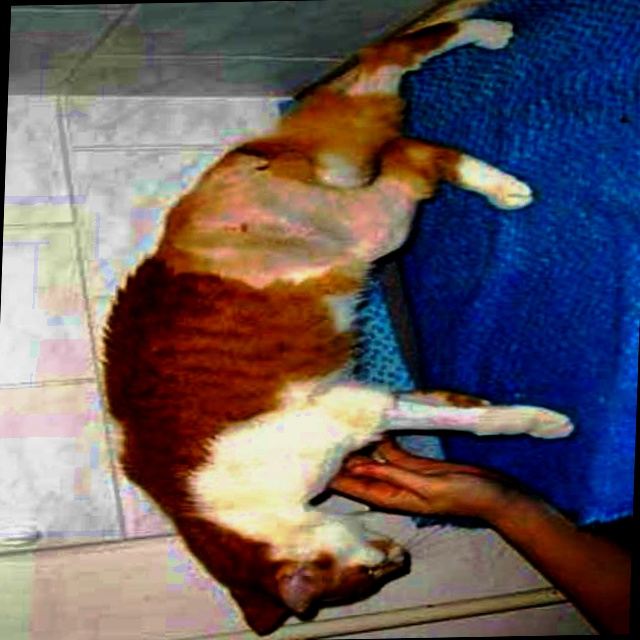hairloss: (222, 394, 425, 549), (171, 178, 410, 280)
